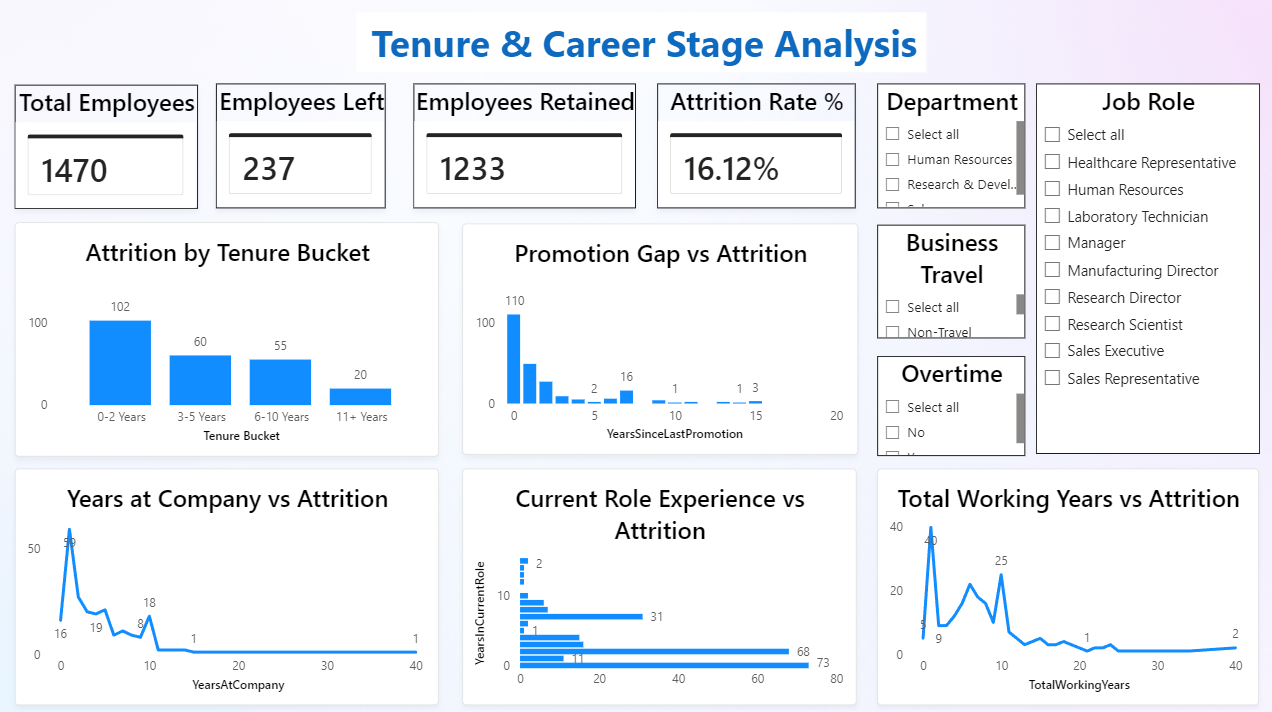

Layout of this report page (visuals, bound fields, positions):
{"tool":"powerbi","page":{"name":"Tenure & Career Stage Analysis","canvas":[1280,720],"ordinal":3},"visuals":[{"type":"clusteredColumnChart","title":"Attrition by Tenure Bucket","fields":{"Category":["Palo Alto Networks.Tenure Bucket"],"Y":["Measures (2).Employees Left"]},"box":[18.6,225.7,424.3,234.3],"z":0},{"type":"lineChart","title":"Years at Company vs Attrition","fields":{"Category":["Palo Alto Networks.YearsAtCompany"],"Y":["Measures (2).Employees Left"]},"box":[18.6,472.9,424.3,237.1],"z":1000},{"type":"clusteredColumnChart","title":"Promotion Gap vs Attrition","fields":{"Category":["Palo Alto Networks.YearsSinceLastPromotion"],"Y":["Measures (2).Employees Left"]},"box":[465.7,227.1,395.7,231.4],"z":2000},{"type":"clusteredBarChart","title":"Current Role Experience vs Attrition","fields":{"Category":["Palo Alto Networks.YearsInCurrentRole"],"Y":["Measures (2).Employees Left"]},"box":[465.7,472.9,394.3,237.1],"z":3000},{"type":"lineChart","title":"Total Working Years vs Attrition","fields":{"Category":["Palo Alto Networks.TotalWorkingYears"],"Y":["Measures (2).Employees Left"]},"box":[881.4,472.9,381.4,237.1],"z":4000},{"type":"slicer","title":"Department","fields":{"Values":["Palo Alto Networks.Department"]},"box":[881.7,88,148,124.7],"z":5000},{"type":"slicer","title":"Job Role","fields":{"Values":["Palo Alto Networks.JobRole"]},"box":[1039.4,88,223.8,370.5],"z":6000},{"type":"slicer","title":"Business Travel","fields":{"Values":["Palo Alto Networks.BusinessTravel"]},"box":[881.7,228.7,148,113.7],"z":7000},{"type":"slicer","title":"Overtime","fields":{"Values":["Palo Alto Networks.OverTime"]},"box":[881.7,359.5,148,100.3],"z":8000},{"type":"textbox","box":[360,15.7,570,60],"z":9000},{"type":"cardVisual","title":"Total Employees","fields":{"Data":["Measures (2).Total Employees"]},"box":[18.6,88.6,182.9,124.3],"z":10000},{"type":"cardVisual","title":"Employees Left","fields":{"Data":["Measures (2).Employees Left"]},"box":[220.1,88,170,124.7],"z":11000},{"type":"cardVisual","title":"Employees Retained","fields":{"Data":["Measures (2).Employees Retained"]},"box":[417,88,222.6,124.7],"z":12000},{"type":"cardVisual","title":"Attrition Rate %","fields":{"Data":["Measures (2).Attrition Rate %"]},"box":[661.6,88,198.1,124.7],"z":13000}]}

Visuals, with their boxes in screenshot pixels (x1, y1, x2, y2), scaled from the page's 1280x720 canvas onto the 1272x712 screenshot:
"Attrition by Tenure Bucket" clusteredColumnChart: [x1=18, y1=223, x2=440, y2=455]
"Years at Company vs Attrition" lineChart: [x1=18, y1=468, x2=440, y2=702]
"Promotion Gap vs Attrition" clusteredColumnChart: [x1=463, y1=225, x2=856, y2=453]
"Current Role Experience vs Attrition" clusteredBarChart: [x1=463, y1=468, x2=855, y2=702]
"Total Working Years vs Attrition" lineChart: [x1=876, y1=468, x2=1255, y2=702]
"Department" slicer: [x1=876, y1=87, x2=1023, y2=210]
"Job Role" slicer: [x1=1033, y1=87, x2=1255, y2=453]
"Business Travel" slicer: [x1=876, y1=226, x2=1023, y2=339]
"Overtime" slicer: [x1=876, y1=356, x2=1023, y2=455]
textbox: [x1=358, y1=16, x2=924, y2=75]
"Total Employees" cardVisual: [x1=18, y1=88, x2=200, y2=211]
"Employees Left" cardVisual: [x1=219, y1=87, x2=388, y2=210]
"Employees Retained" cardVisual: [x1=414, y1=87, x2=636, y2=210]
"Attrition Rate %" cardVisual: [x1=657, y1=87, x2=854, y2=210]
